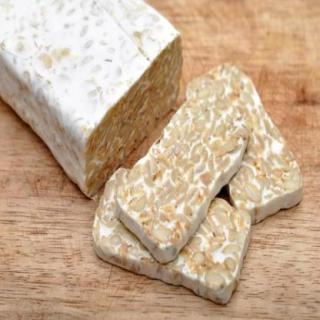Tempe: (88, 62, 306, 308)
